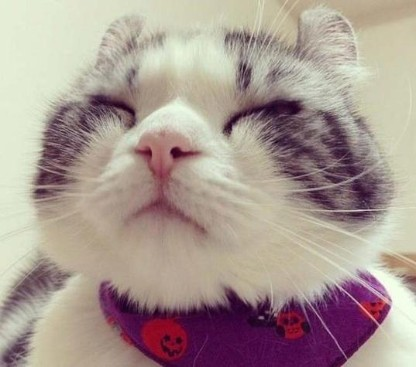闭眼: (210, 92, 304, 139), (81, 88, 136, 128)
